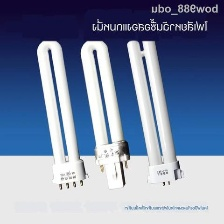light_bulb: (125, 38, 187, 188), (34, 38, 90, 192), (79, 39, 132, 192)
